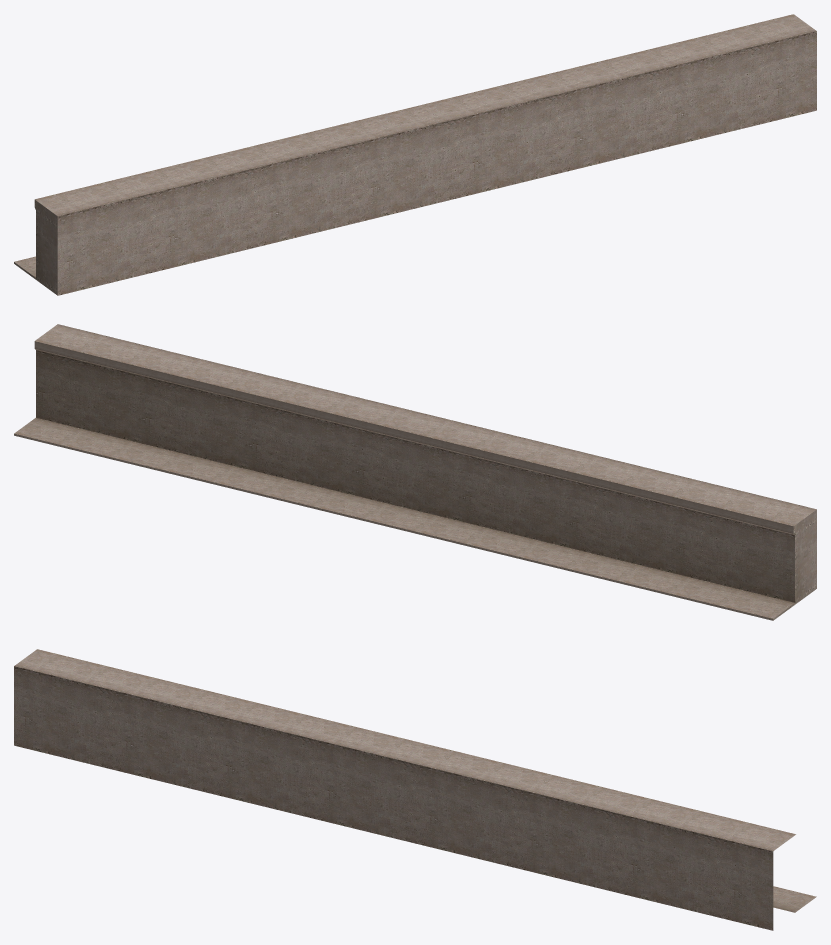
File: M2Zone4_Building13A.glb
3 renders of one model, top to bottom at view 1: azimuth 30°, elevation 25°; view 2: azimuth 150°, elevation 25°; view 3: azimuth 330°, elevation 25°, orthographic.
Parts seen in each view (by area): view 1: M2ZONE4_BUILDING13A; view 2: M2ZONE4_BUILDING13A; view 3: M2ZONE4_BUILDING13A.
Part boxes in pixels (bbox=[...]): M2ZONE4_BUILDING13A: bbox=[14, 14, 816, 295]; M2ZONE4_BUILDING13A: bbox=[14, 324, 816, 620]; M2ZONE4_BUILDING13A: bbox=[14, 649, 816, 930].
Size of the model in its own units: 40 by 4 by 4.
2 materials, 2 textured.
